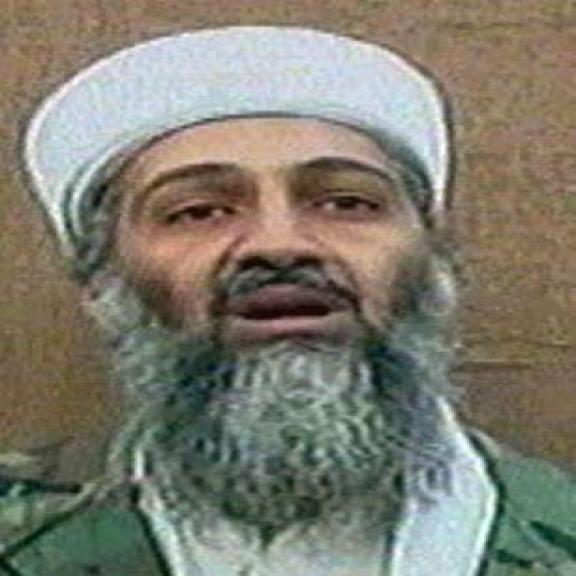face: (98, 118, 444, 379)
